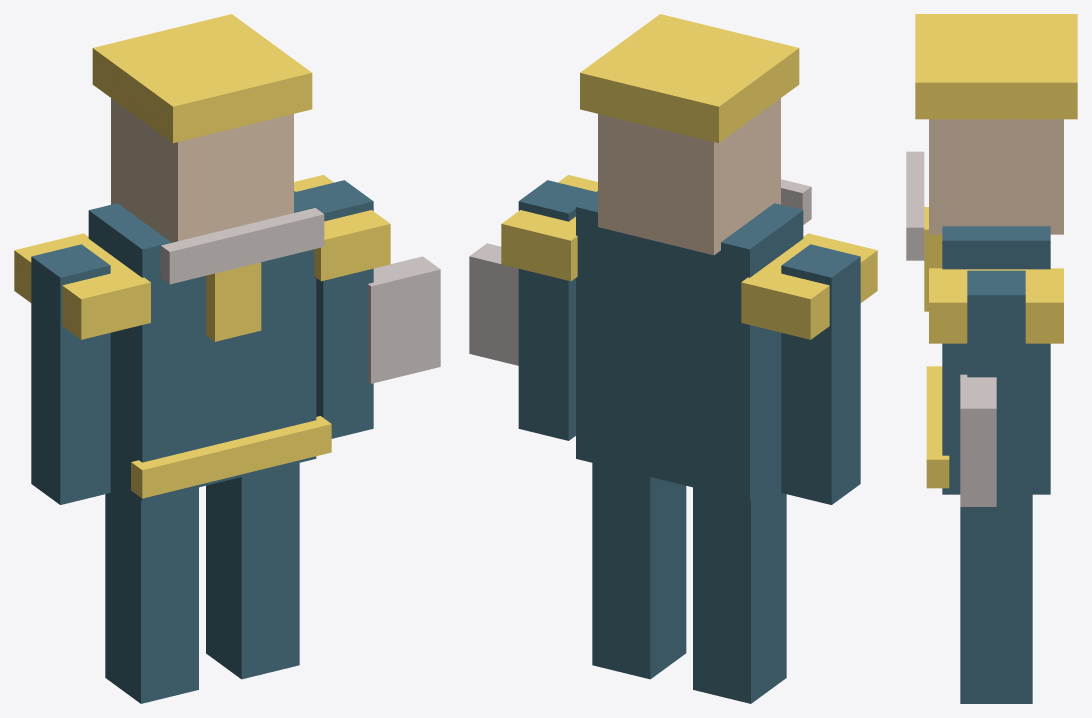
Rendered from 05_luma_brightlock_sentinel_near_arrival.glb.
3 views of the same model, side by side, from view 1: azimuth 30°, elevation 25°; view 2: azimuth 150°, elevation 25°; view 3: azimuth 270°, elevation 25° (orthographic).
Parts seen in each view (by area): view 1: Luma Brightlock, Sentinel near Arrival; view 2: Luma Brightlock, Sentinel near Arrival; view 3: Luma Brightlock, Sentinel near Arrival.
Boxes of the visible parts, x1,y1,x2,y2 form: Luma Brightlock, Sentinel near Arrival: (14,14,440,703); Luma Brightlock, Sentinel near Arrival: (469,14,877,703); Luma Brightlock, Sentinel near Arrival: (906,14,1077,703).
Size of the model in its own units: 0.9245 by 1.43 by 0.3603.
